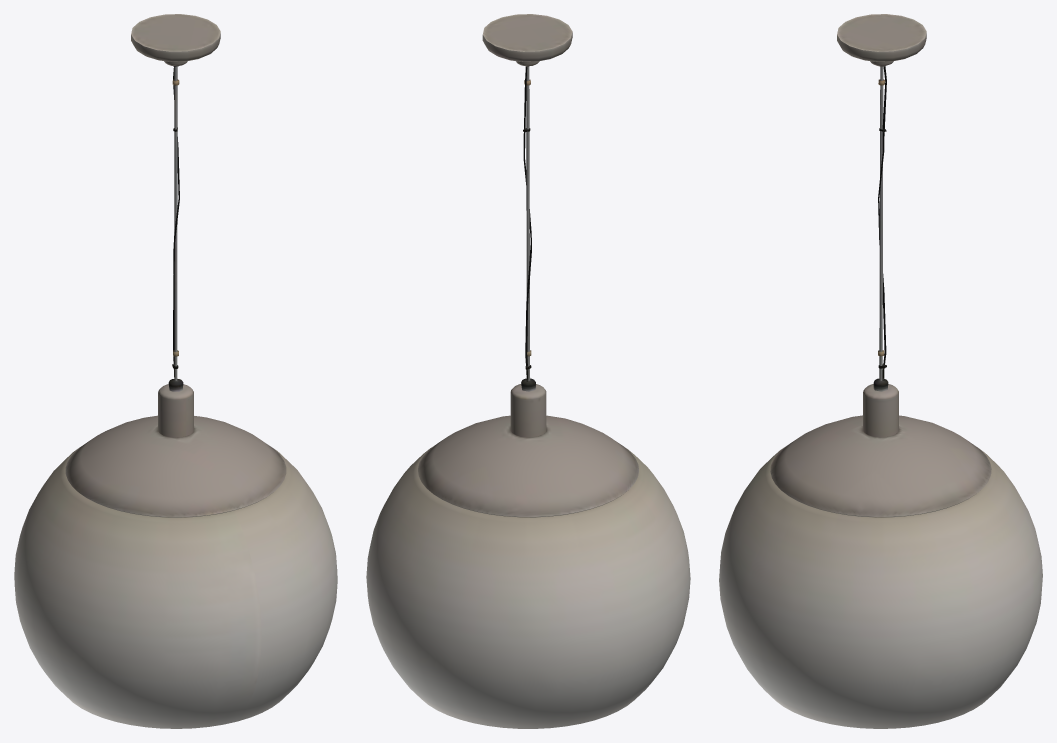
File: modern_ceiling_lamp_01.glb
3 views of the same model, side by side, from view 1: azimuth 30°, elevation 25°; view 2: azimuth 150°, elevation 25°; view 3: azimuth 270°, elevation 25° (orthographic).
Visible parts, largest first — view 1: modern_ceiling_lamp_01; view 2: modern_ceiling_lamp_01; view 3: modern_ceiling_lamp_01.
Boxes of the visible parts, left/top/right/bottom form: modern_ceiling_lamp_01: left=14, top=14, right=337, bottom=728; modern_ceiling_lamp_01: left=366, top=14, right=690, bottom=728; modern_ceiling_lamp_01: left=719, top=14, right=1042, bottom=728.
Bounding box in the file's own units: 0.4316 × 0.9512 × 0.4316.
Materials: 2 (2 with a texture image).
